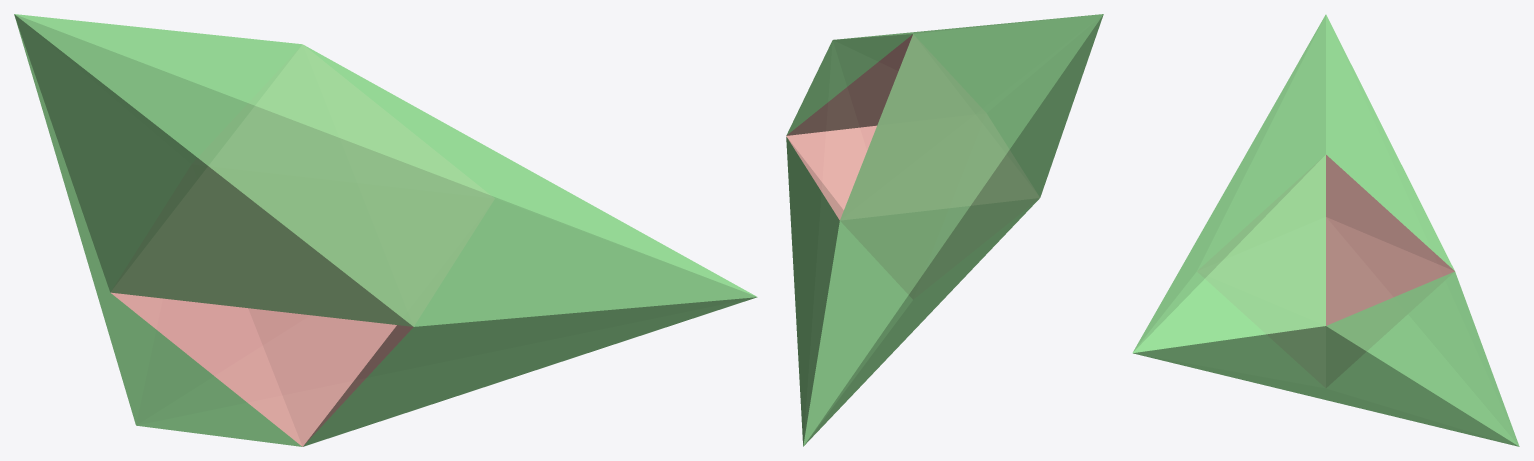
The model's file is RegularTriangularToroid_A.obj.
The picture shows the model from 3 angles, left to right: view 1: azimuth 30°, elevation 25°; view 2: azimuth 150°, elevation 25°; view 3: azimuth 270°, elevation 25°; orthographic projection. The views are drawn at different scales.
Size of the model in its own units: 6 by 6 by 6.
